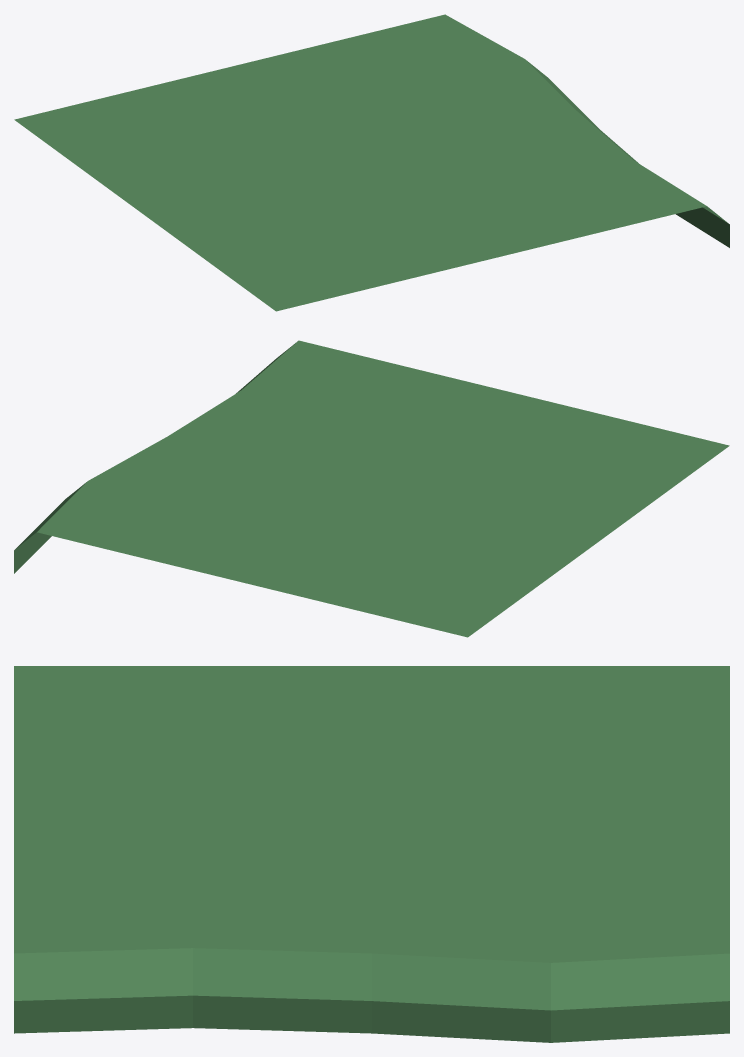
Rendered from Grass_Side_1.fbx.
3 renders of one model, top to bottom at view 1: azimuth 30°, elevation 25°; view 2: azimuth 150°, elevation 25°; view 3: azimuth 270°, elevation 25°, orthographic. The views are drawn at different scales.
Parts seen in each view (by area): view 1: Grass_1_Side; view 2: Grass_1_Side; view 3: Grass_1_Side.
Part boxes in pixels (box(x1,y1,x2,y2)): Grass_1_Side: box(14, 14, 729, 311); Grass_1_Side: box(14, 340, 729, 637); Grass_1_Side: box(14, 666, 729, 1042).
Size of the model in its own units: 103 by 10 by 100.
